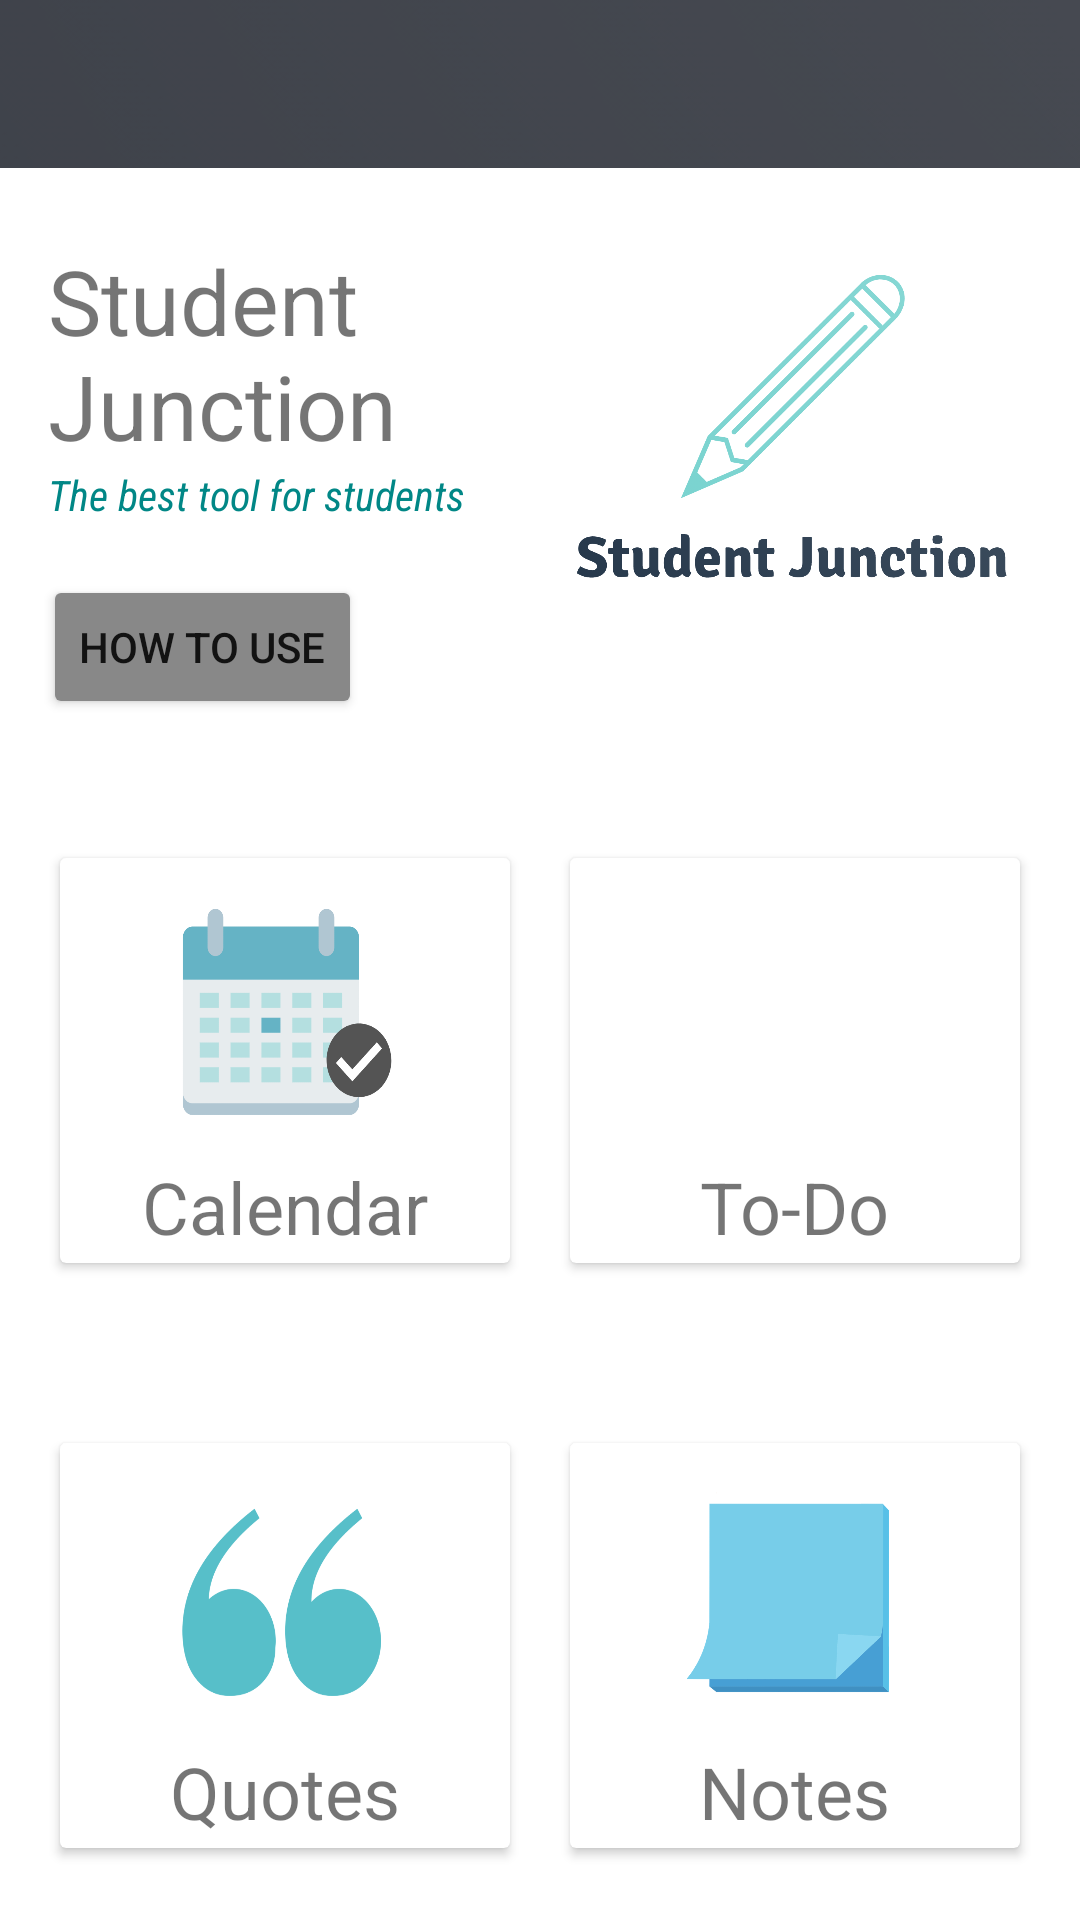

Screen size 1080w x 1920h. Icon name, then its center in pixels as [x,y]:
cal: [287,1012]
notepad: [788,1597]
